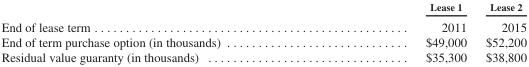table: (0, 0, 525, 63)
table column: (0, 0, 322, 63), (322, 0, 475, 63), (475, 0, 525, 63)
table column header: (0, 0, 525, 33)
table row: (0, 0, 525, 33), (0, 33, 525, 48), (0, 48, 525, 63)
